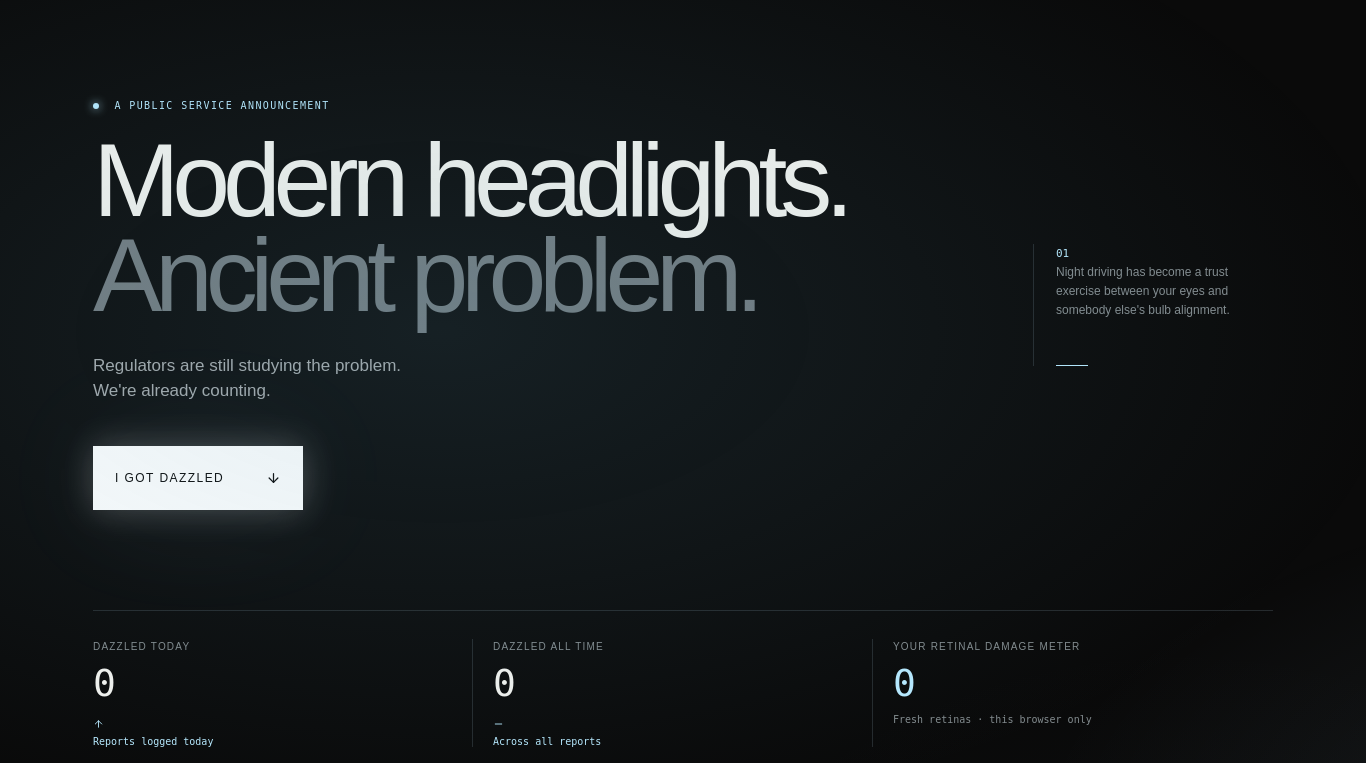
incident report › submits a selected incident and refreshes persisted statistics
Click the button "I got dazzled" at (198, 478), box [93,446,303,510]
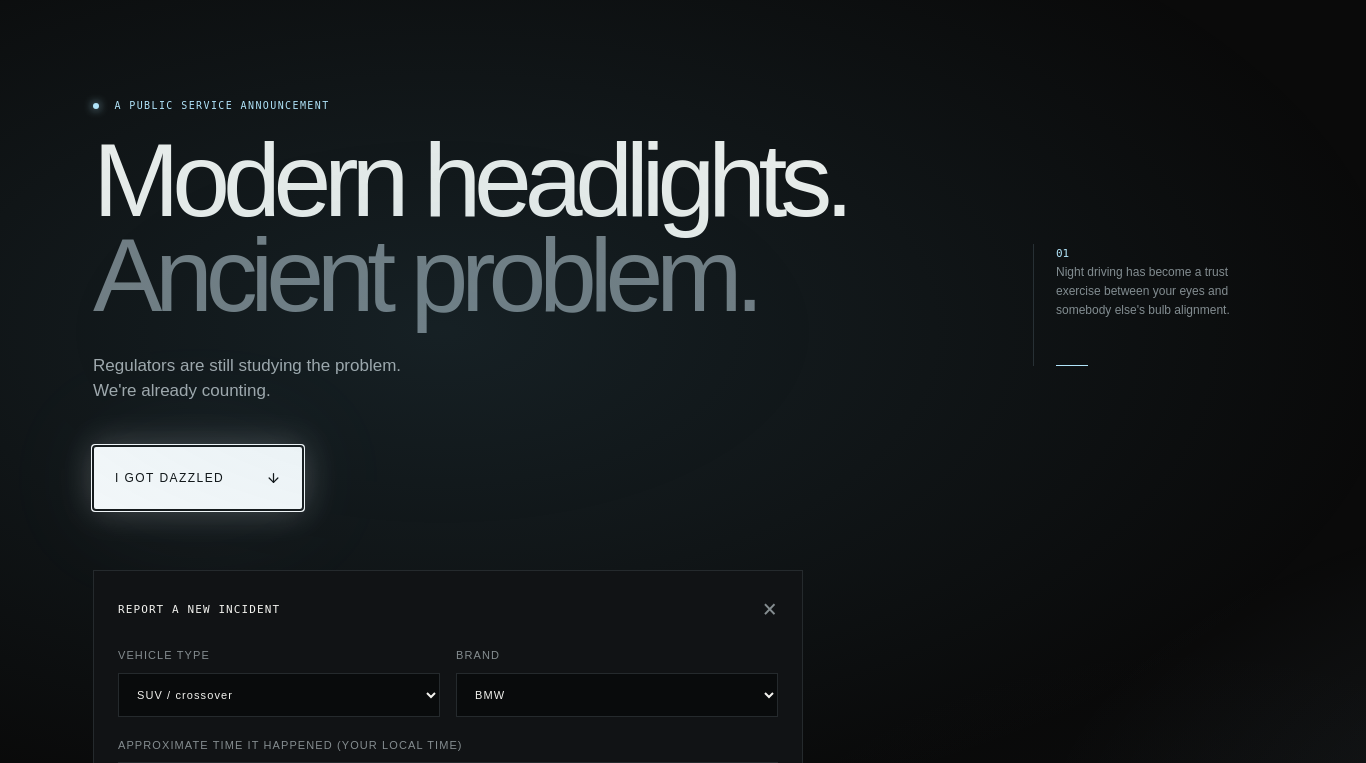
Select "Sedan" in the dropdown labelled "Vehicle type" at (279, 694), box [118,672,440,716]
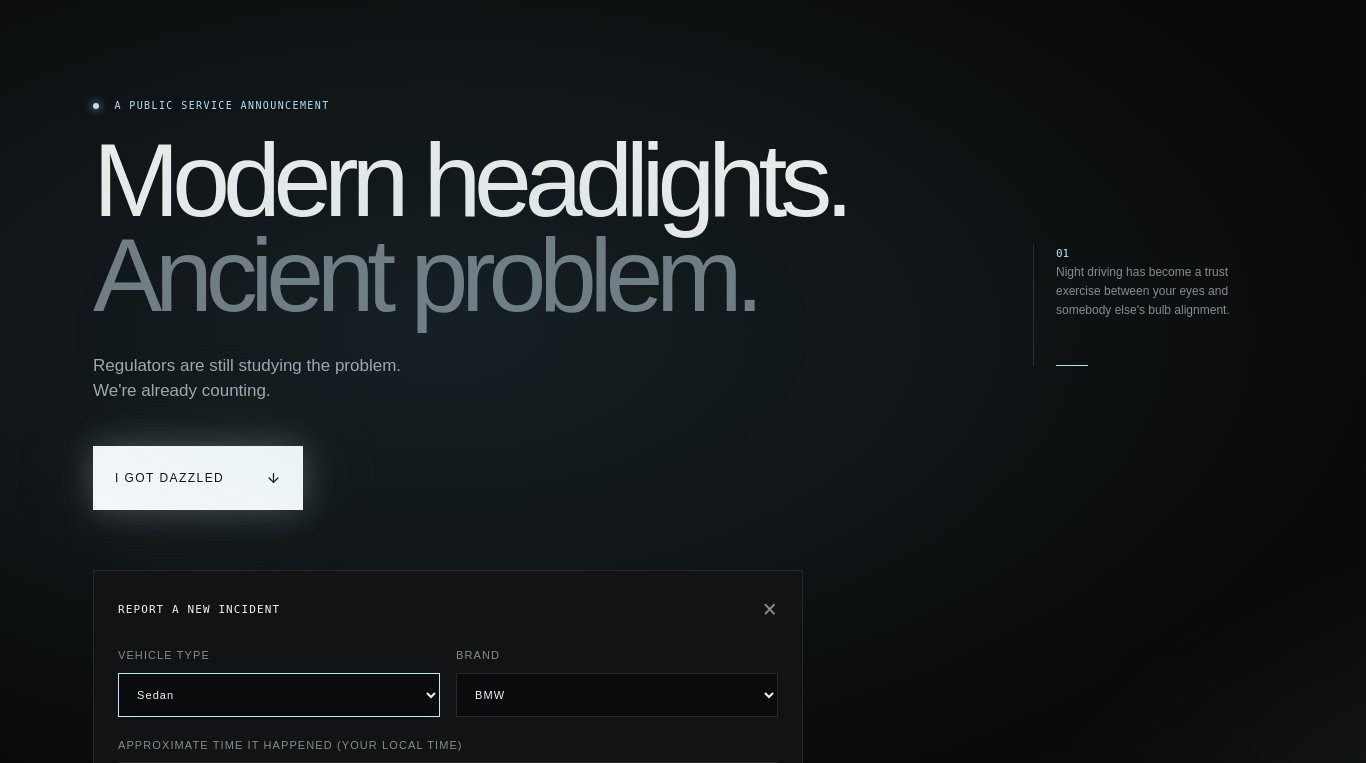
Select "Audi" in the dropdown labelled "Brand" at (617, 694), box [456,672,778,716]
(page scrolled)
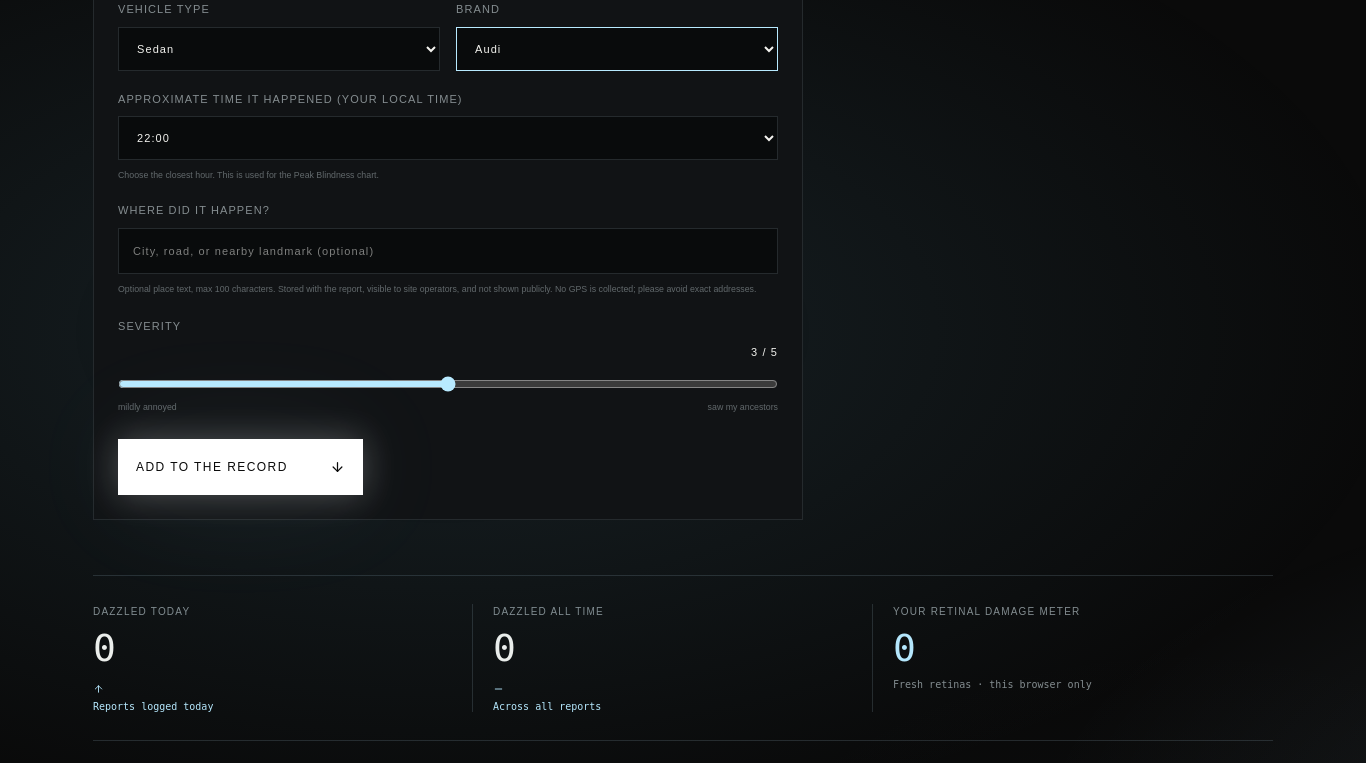
Set the slider to "5" at (770, 384), box [118,376,778,392]
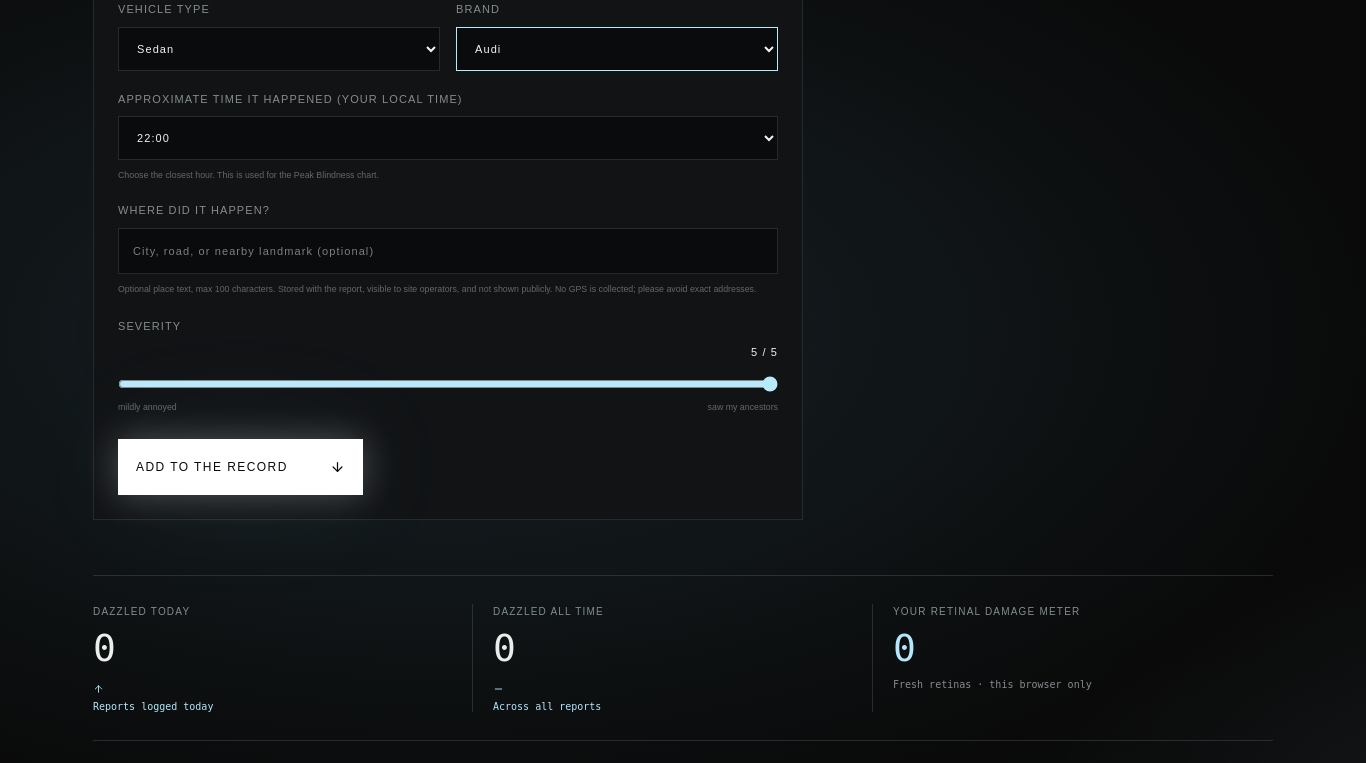
Click the button "Add to the record" at (240, 467), box [118,439,363,495]
(page scrolled)
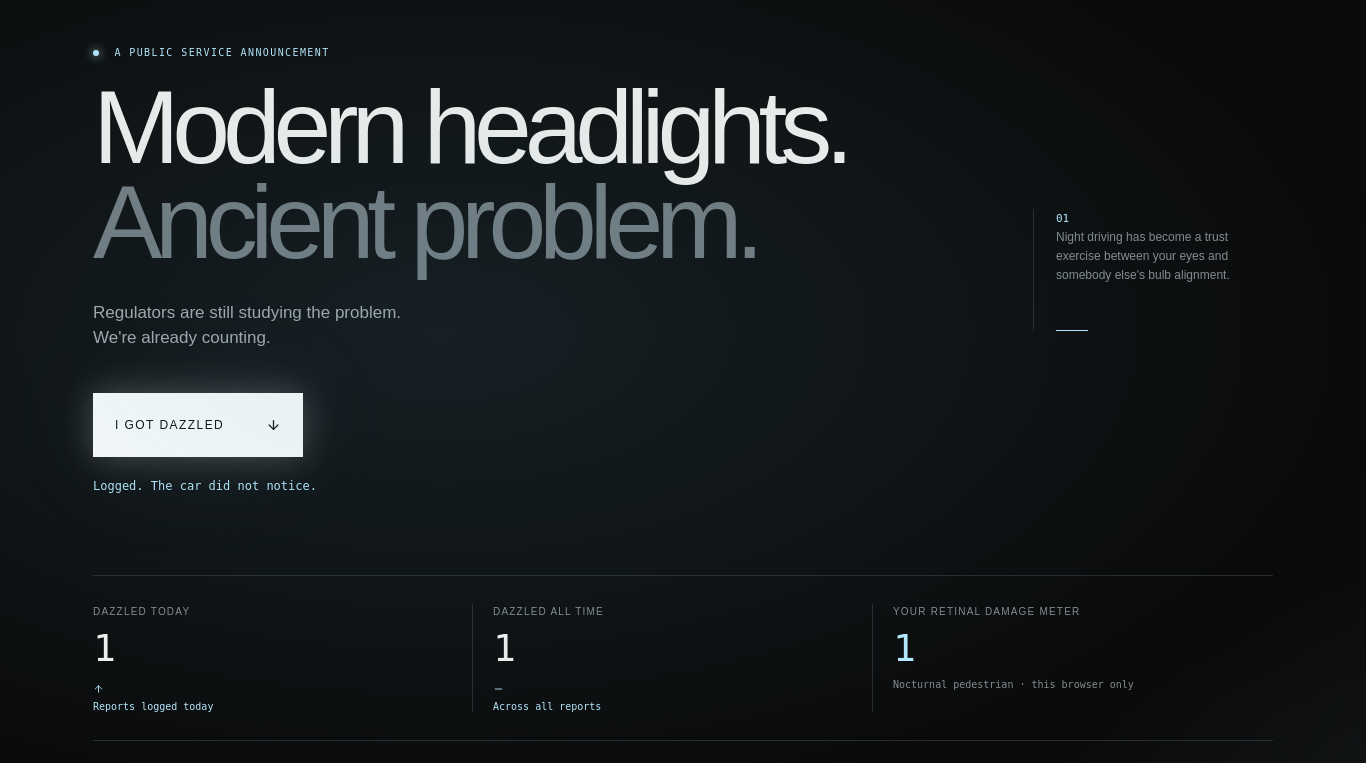
Expected: the text "1" is shown 3 times, [93,626,113,670]; [493,626,513,670]; [893,626,913,670]
Result: the message "Logged. The car did not notice." is shown at [93,479,317,493]
